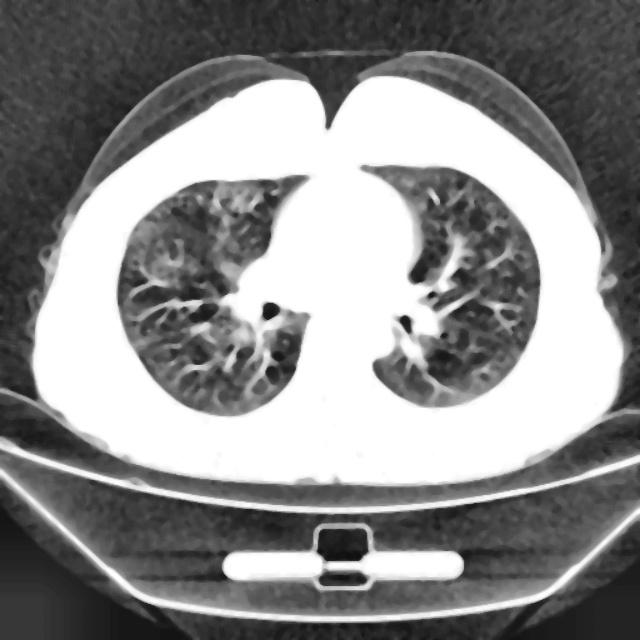covid: (28, 50, 625, 490)
